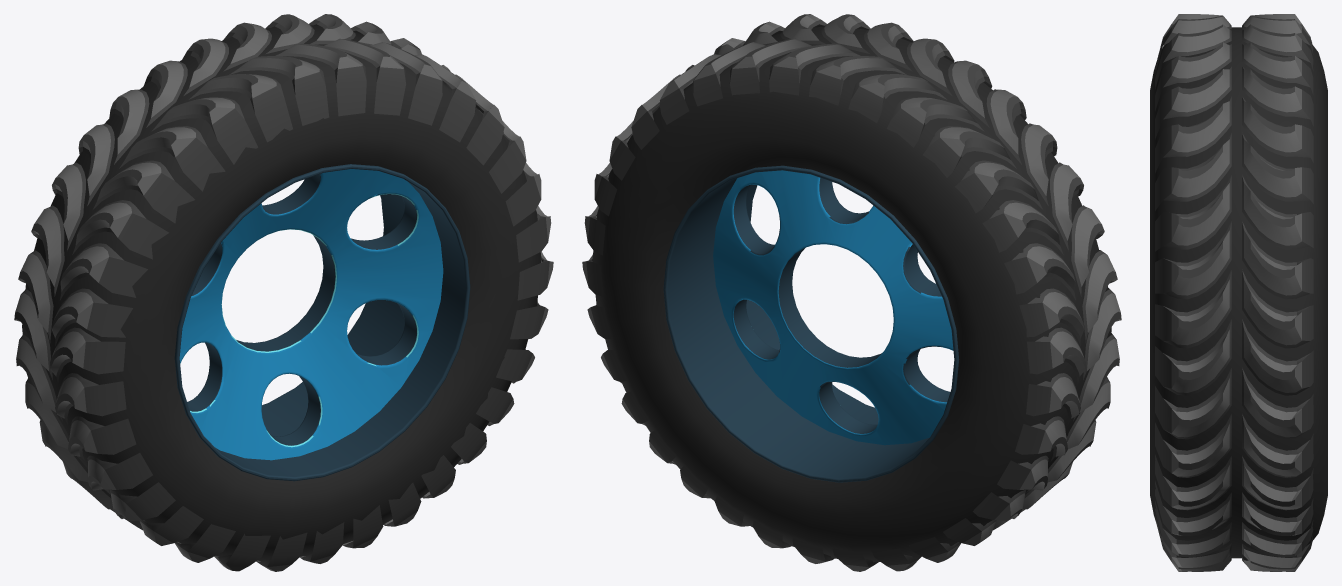
The model's file is wheel_11.fbx.
3 views of the same model, side by side, from view 1: azimuth 30°, elevation 25°; view 2: azimuth 150°, elevation 25°; view 3: azimuth 270°, elevation 25° (orthographic).
Parts seen in each view (by area): view 1: wheel_11; view 2: wheel_11; view 3: wheel_11.
Boxes of the visible parts, x1=… form: wheel_11: x1=14, y1=14, x2=553, y2=571; wheel_11: x1=582, y1=14, x2=1121, y2=571; wheel_11: x1=1150, y1=14, x2=1327, y2=571.
Size of the model in its own units: 120 by 119 by 38.12.
